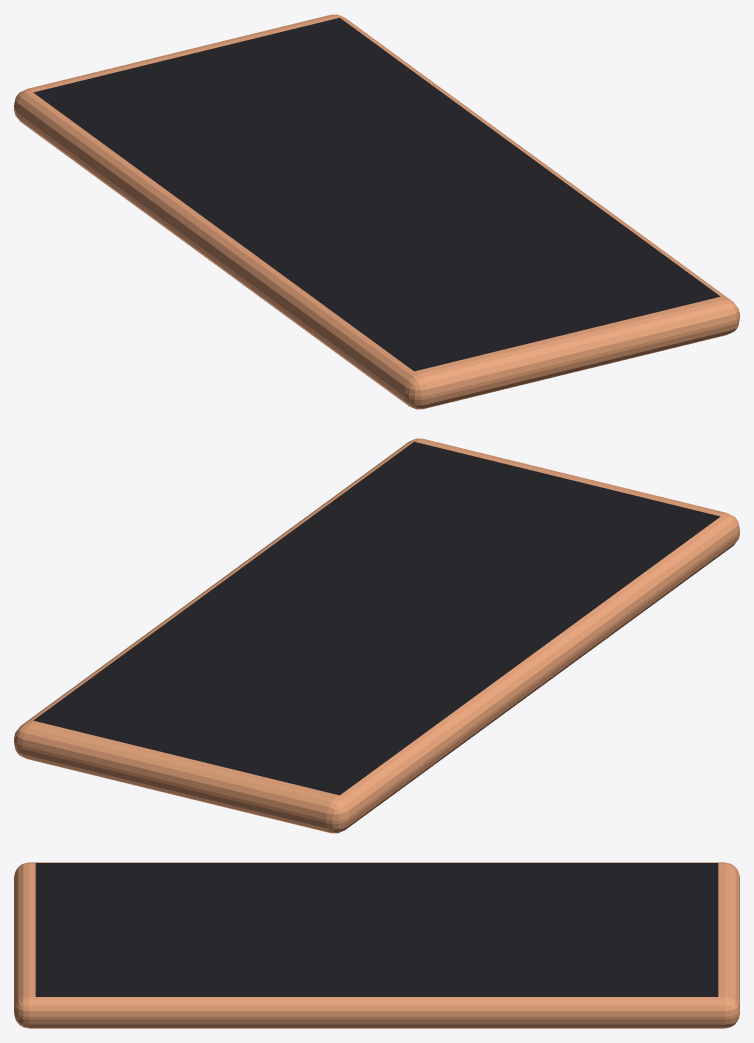
File: vivo-v-model-5-mid-range-2022.glb
The picture shows the model from 3 angles, top to bottom: view 1: azimuth 30°, elevation 25°; view 2: azimuth 150°, elevation 25°; view 3: azimuth 270°, elevation 25°; orthographic projection. The views are drawn at different scales.
Parts seen in each view (by area): view 1: Phone_Screen, Phone_Body; view 2: Phone_Screen, Phone_Body; view 3: Phone_Screen, Phone_Body.
Part boxes in pixels (bbox=[...]): Phone_Screen: bbox=[33, 17, 720, 371]; Phone_Body: bbox=[14, 14, 739, 409]; Phone_Screen: bbox=[33, 441, 720, 795]; Phone_Body: bbox=[14, 438, 739, 833]; Phone_Screen: bbox=[35, 863, 718, 996]; Phone_Body: bbox=[14, 862, 739, 1028].
Size of the model in its own units: 0.0721 by 0.0071 by 0.1519.
